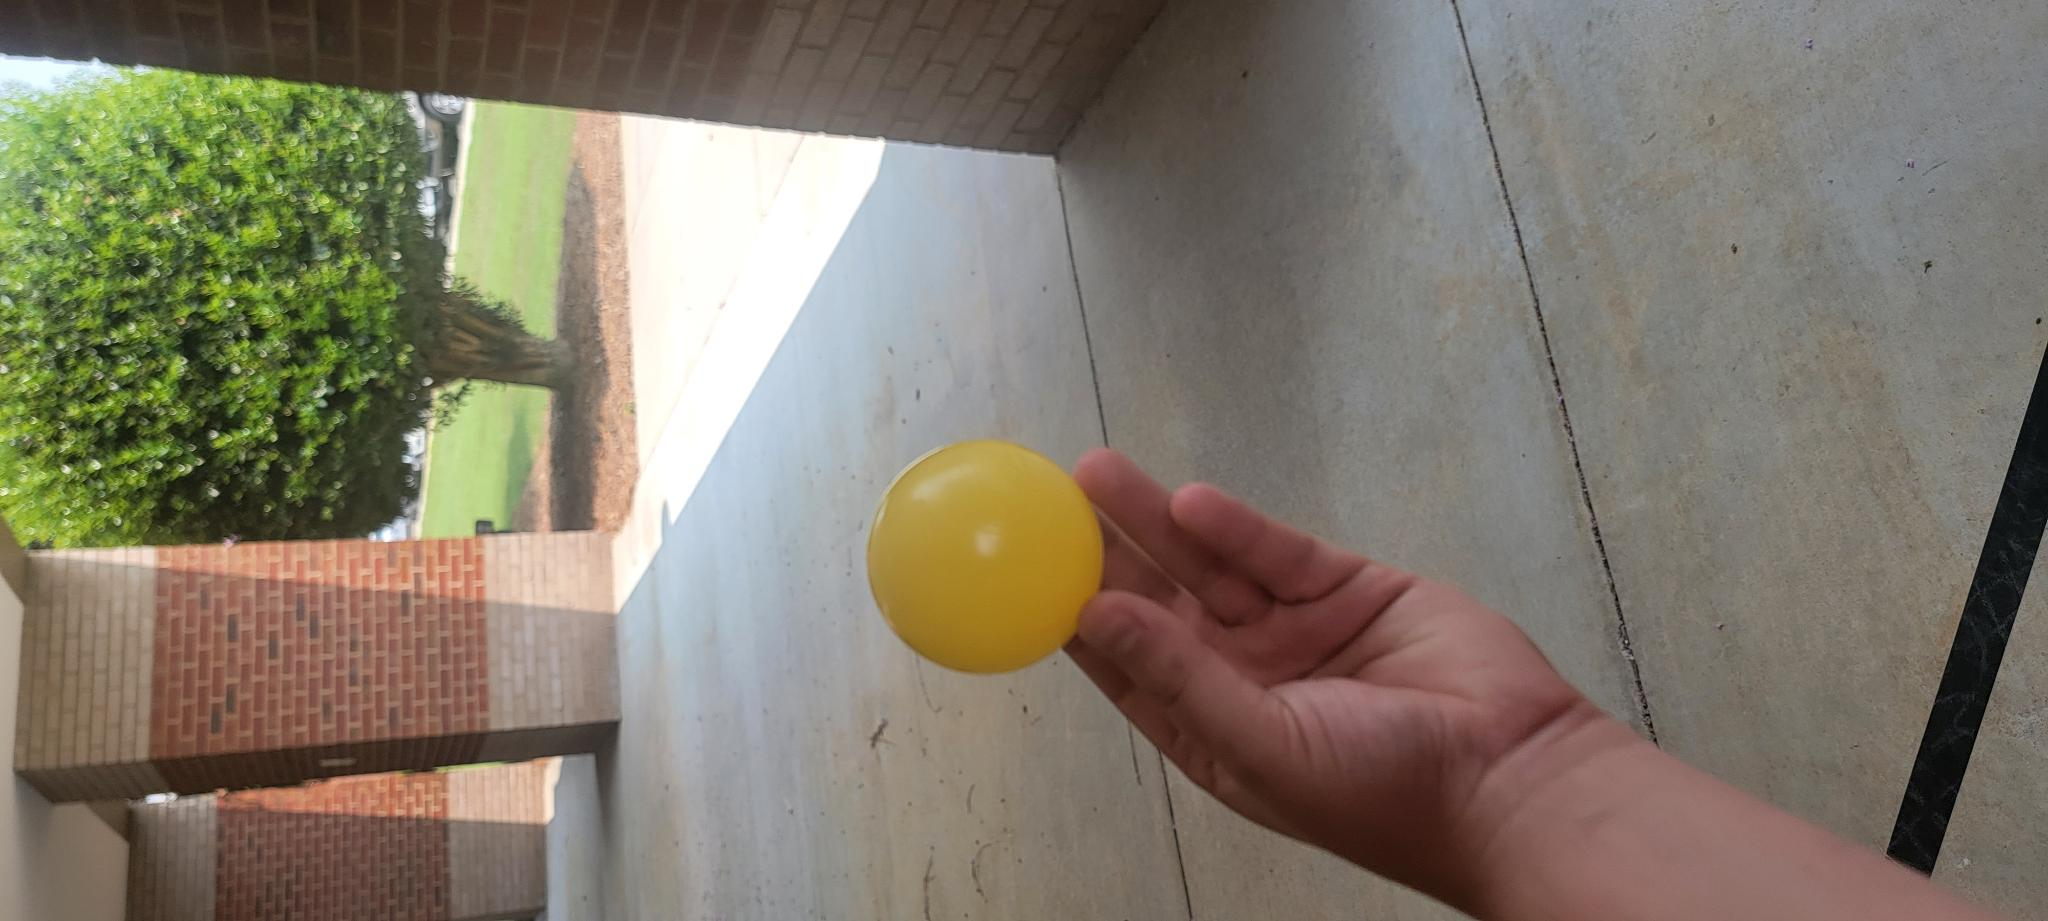Yellow-Ball: (242, 860, 481, 921)
